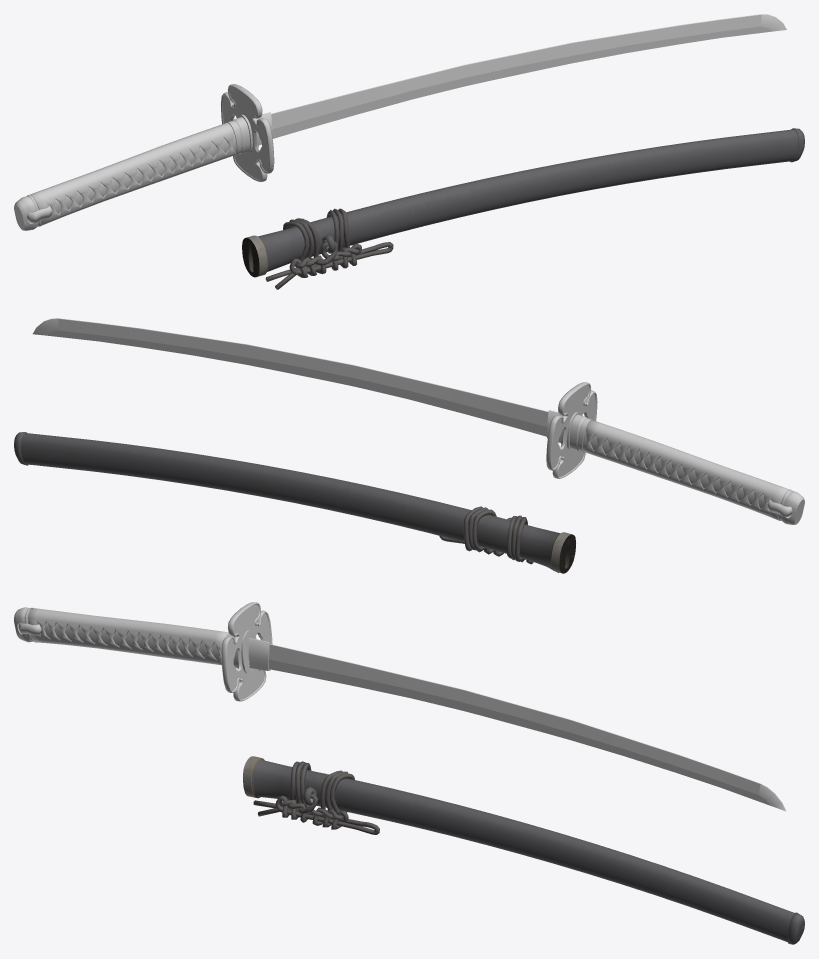
Rendered from Katana_2e.gltf.
3 views of the same model, one above another, from view 1: azimuth 30°, elevation 25°; view 2: azimuth 150°, elevation 25°; view 3: azimuth 330°, elevation 25° (orthographic).
Parts seen in each view (by area): view 1: Saya, blade, Tsuka-ito, Sage-o, Tsuba, Same-gava, Kashira, Fuchi; view 2: Saya, blade, Tsuka-ito, Tsuba, Sage-o, Same-gava, Kashira, Fuchi; view 3: Saya, blade, Tsuka-ito, Sage-o, Tsuba, Same-gava, Habaki.
Boxes of the visible parts, x1,y1,x2,y2 form: Saya: [242, 129, 798, 277]; blade: [271, 14, 786, 138]; Tsuka-ito: [27, 122, 235, 225]; Sage-o: [265, 208, 393, 289]; Tsuba: [221, 84, 274, 181]; Same-gava: [54, 131, 236, 213]; Kashira: [14, 194, 41, 230]; Fuchi: [227, 117, 250, 155]; Saya: [20, 433, 575, 573]; blade: [33, 318, 548, 436]; Tsuka-ito: [583, 420, 792, 519]; Tsuba: [546, 382, 597, 478]; Sage-o: [439, 506, 558, 572]; Same-gava: [583, 429, 764, 508]; Kashira: [777, 489, 804, 524]; Fuchi: [569, 414, 592, 452]; Saya: [251, 758, 794, 942]; blade: [269, 644, 785, 811]; Tsuka-ito: [18, 608, 228, 665]; Sage-o: [253, 761, 379, 834]; Tsuba: [221, 602, 272, 701]; Same-gava: [44, 622, 221, 659]; Habaki: [241, 630, 270, 674].
Bounding box in the file's own units: 41.82 × 10.57 × 4.33.
